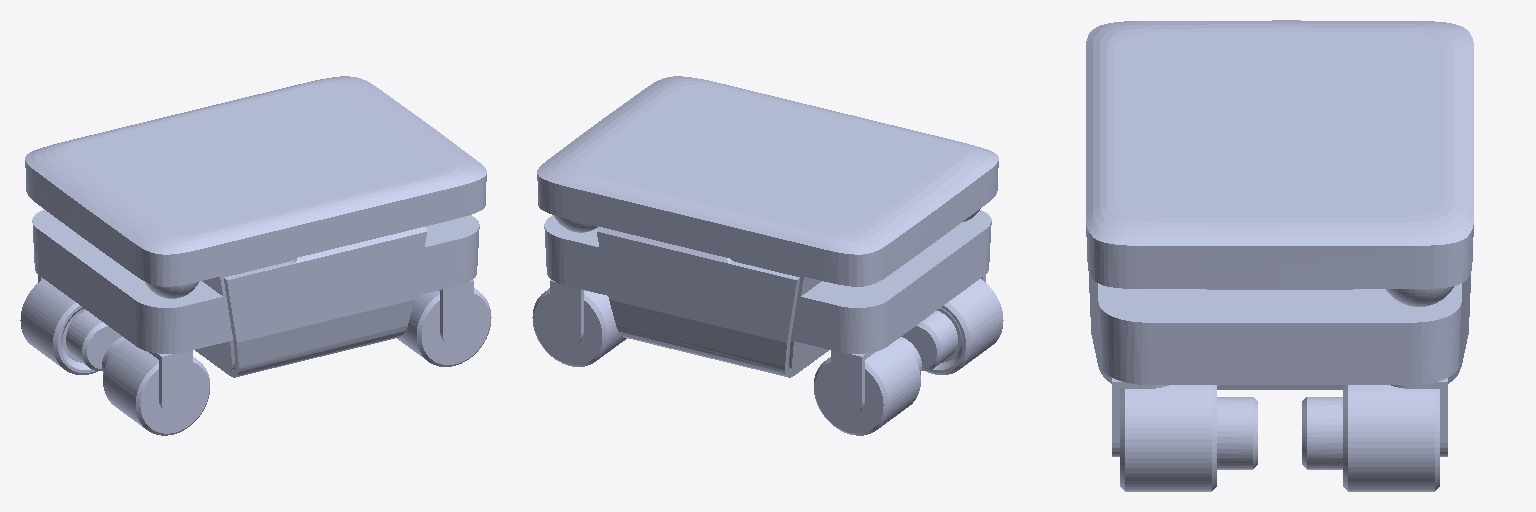
URDF robot description (compal_amr):
<?xml version="1.0" encoding="utf-8"?>
<!-- This URDF was automatically created by SolidWorks to URDF Exporter! Originally created by [author] ([email redacted]) 
     Commit Version: 1.6.0-4-g7f85cfe  Build Version: 1.6.7995.38578
     For more information, please see http://wiki.ros.org/sw_urdf_exporter -->
<robot
  name="compal_amr">
  <mujoco>
  <compiler
    meshdir="../meshes"
    balanceinertia="true"
    discardvisual="false" />
  </mujoco>
  <link
    name="base_link">
    <inertial>
      <origin
        xyz="2.59569390039498E-05 3.92560880102569E-07 0.0127582437299754"
        rpy="0 0 0" />
      <mass
        value="39.4194529711232" />
      <inertia
        ixx="0.538814147760533"
        ixy="0.000136634014522916"
        ixz="-0.000125882615713462"
        iyy="0.791445660994601"
        iyz="2.94499259389159E-07"
        izz="1.21586119090472" />
    </inertial>
    <visual>
      <origin
        xyz="0 0 0"
        rpy="0 0 0" />
      <geometry>
        <mesh
          filename="../meshes/base_link.STL" />
      </geometry>
      <material
        name="">
        <color
          rgba="0.792156862745098 0.819607843137255 0.933333333333333 1" />
      </material>
    </visual>
    <collision>
      <origin
        xyz="0 0 0"
        rpy="0 0 0" />
      <geometry>
        <mesh
          filename="../meshes/base_link_collision.STL" />
      </geometry>
    </collision>
  </link>
  <link
    name="F_lidar">
    <inertial>
      <origin
        xyz="1.06460726345681E-09 1.61064966919255E-10 -0.0156626192455283"
        rpy="0 0 0" />
      <mass
        value="0.150323115498736" />
      <inertia
        ixx="6.73031944392229E-05"
        ixy="-7.00363761993641E-10"
        ixz="3.30423735040374E-12"
        iyy="6.73104267215486E-05"
        iyz="-1.23666117909615E-11"
        izz="0.000103280581165292" />
    </inertial>
    <visual>
      <origin
        xyz="0 0 0"
        rpy="0 0 0" />
      <geometry>
        <mesh
          filename="../meshes/F_lidar.STL" />
      </geometry>
      <material
        name="">
        <color
          rgba="0.792156862745098 0.819607843137255 0.933333333333333 1" />
      </material>
    </visual>
  </link>
  <joint
    name="F_lidar_joint"
    type="fixed" dont_collapse="true">
    <origin
      xyz="0.217002044209402 0.1429047538305 0.05929798972915"
      rpy="0 0 0" />
    <parent
      link="base_link" />
    <child
      link="F_lidar" />
    <axis
      xyz="0 0 1" />
  </joint>
  <link
    name="R_lidar">
    <inertial>
      <origin
        xyz="-3.03887748298592E-11 -1.32434790911518E-09 -0.0156626099953528"
        rpy="0 0 0" />
      <mass
        value="0.150323106902144" />
      <inertia
        ixx="6.73032169407922E-05"
        ixy="-6.93279627324856E-10"
        ixz="8.53284394460163E-12"
        iyy="6.73104272544051E-05"
        iyz="-5.92736026357954E-12"
        izz="0.000103280574739445" />
    </inertial>
    <visual>
      <origin
        xyz="0 0 0"
        rpy="0 0 0" />
      <geometry>
        <mesh
          filename="../meshes/R_lidar.STL" />
      </geometry>
      <material
        name="">
        <color
          rgba="0.792156862745098 0.819607843137255 0.933333333333333 1" />
      </material>
    </visual>
  </link>
  <joint
    name="R_lidar_joint"
    type="fixed" dont_collapse="true">
    <origin
      xyz="-0.217002044209398 -0.1429047538305 0.0592979897291498"
      rpy="0 0 0" />
    <parent
      link="base_link" />
    <child
      link="R_lidar" />
    <axis
      xyz="0 0 1" />
  </joint>
  <link
    name="FL_Z">
    <inertial>
      <origin
        xyz="4.48461335206263E-07 0.0157407427765054 -0.0317579183639847"
        rpy="0 0 0" />
      <mass
        value="0.0627920067701351" />
      <inertia
        ixx="7.19676736234964E-05"
        ixy="-1.32605408807586E-10"
        ixz="5.39004939666946E-10"
        iyy="6.42322629301271E-05"
        iyz="1.93934184037754E-05"
        izz="3.08991830828198E-05" />
    </inertial>
    <visual>
      <origin
        xyz="0 0 0"
        rpy="0 0 0" />
      <geometry>
        <mesh
          filename="../meshes/FL_Z.STL" />
      </geometry>
      <material
        name="">
        <color
          rgba="0.792156862745098 0.819607843137255 0.933333333333333 1" />
      </material>
    </visual>
  </link>
  <joint
    name="FL_Z_joint"
    type="continuous">
    <origin
      xyz="0.225 0.14 -0.0507020102708502"
      rpy="0 0 0" />
    <parent
      link="base_link" />
    <child
      link="FL_Z" />
    <axis
      xyz="0 0 1" />
  </joint>
  <link
    name="FL_Y">
    <inertial>
      <origin
        xyz="3.20811257004117E-08 -0.0348592060116931 1.70991623082983E-08"
        rpy="0 0 0" />
      <mass
        value="1.28546928384308" />
      <inertia
        ixx="0.00189138298906044"
        ixy="-1.07059085352935E-09"
        ixz="9.9622799143609E-10"
        iyy="0.00209674422691202"
        iyz="7.36032312529509E-10"
        izz="0.00189150168131795" />
    </inertial>
    <visual>
      <origin
        xyz="0 0 0"
        rpy="0 0 0" />
      <geometry>
        <mesh
          filename="../meshes/FL_Y.STL" />
      </geometry>
      <material
        name="">
        <color
          rgba="0.792156862745098 0.819607843137255 0.933333333333333 1" />
      </material>
    </visual>
    <collision>
      <origin xyz="0 -0.025 0" rpy="1.5708 0 0"/> 
      <geometry>
        <cylinder radius="0.06" length="0.10"/>
      </geometry>
    </collision>
  </link>
  <joint
    name="FLY_joint"
    type="continuous">
    <origin
      xyz="0 0 -0.0750000000000018"
      rpy="0 0 0" />
    <parent
      link="FL_Z" />
    <child
      link="FL_Y" />
    <axis
      xyz="0 1 0" />
  </joint>
  <link
    name="FR_Z">
    <inertial>
      <origin
        xyz="-6.96960099827448E-07 -0.0157422599526739 -0.0317520050572874"
        rpy="0 0 0" />
      <mass
        value="0.0627867707185735" />
      <inertia
        ixx="7.19699012450483E-05"
        ixy="-2.64657203827441E-10"
        ixz="-6.71409418677542E-11"
        iyy="6.42367273968194E-05"
        iyz="-1.93935589207112E-05"
        izz="3.09012142504687E-05" />
    </inertial>
    <visual>
      <origin
        xyz="0 0 0"
        rpy="0 0 0" />
      <geometry>
        <mesh
          filename="../meshes/FR_Z.STL" />
      </geometry>
      <material
        name="">
        <color
          rgba="0.792156862745098 0.819607843137255 0.933333333333333 1" />
      </material>
    </visual>
  </link>
  <joint
    name="FR_Z_joint"
    type="continuous">
    <origin
      xyz="0.225 -0.14 -0.0507020102708502"
      rpy="0 0 0" />
    <parent
      link="base_link" />
    <child
      link="FR_Z" />
    <axis
      xyz="0 0 1" />
  </joint>
  <link
    name="FR_Y">
    <inertial>
      <origin
        xyz="-2.87916643859631E-08 0.0348592364978762 3.48750540113407E-08"
        rpy="0 0 0" />
      <mass
        value="1.28547068503575" />
      <inertia
        ixx="0.0018914124762162"
        ixy="-1.9846149441319E-09"
        ixz="1.1572785368612E-08"
        iyy="0.00209676579205242"
        iyz="9.98180899833962E-11"
        izz="0.0018914984353934" />
    </inertial>
    <visual>
      <origin
        xyz="0 0 0"
        rpy="0 0 0" />
      <geometry>
        <mesh
          filename="../meshes/FR_Y.STL" />
      </geometry>
      <material
        name="">
        <color
          rgba="0.792156862745098 0.819607843137255 0.933333333333333 1" />
      </material>
    </visual>
    <collision>
      <origin xyz="0 0.025 0" rpy="-1.5708 0 0"/> 
      <geometry>
        <cylinder radius="0.06" length="0.10"/>
      </geometry>
    </collision>
  </link>
  <joint
    name="FR_Y_joint"
    type="continuous">
    <origin
      xyz="0 0 -0.0750000000000018"
      rpy="0 0 0" />
    <parent
      link="FR_Z" />
    <child
      link="FR_Y" />
    <axis
      xyz="0 1 0" />
  </joint>
  <link
    name="RL_Z">
    <inertial>
      <origin
        xyz="2.41974958153923E-07 0.0157407427765055 -0.0317579183639849"
        rpy="0 0 0" />
      <mass
        value="0.0627920067701346" />
      <inertia
        ixx="7.19676736234961E-05"
        ixy="-2.49969833683187E-10"
        ixz="6.03640060760562E-11"
        iyy="6.42322629295145E-05"
        iyz="1.93934184037754E-05"
        izz="3.08991830822072E-05" />
    </inertial>
    <visual>
      <origin
        xyz="0 0 0"
        rpy="0 0 0" />
      <geometry>
        <mesh
          filename="../meshes/RL_Z.STL" />
      </geometry>
      <material
        name="">
        <color
          rgba="0.792156862745098 0.819607843137255 0.933333333333333 1" />
      </material>
    </visual>
  </link>
  <joint
    name="RL_Z_joint"
    type="continuous">
    <origin
      xyz="-0.225 0.14 -0.0507020102708502"
      rpy="0 0 0" />
    <parent
      link="base_link" />
    <child
      link="RL_Z" />
    <axis
      xyz="0 0 1" />
  </joint>
  <link
    name="RL_Y">
    <inertial>
      <origin
        xyz="9.83657522102277E-09 -0.0348592364978761 1.73671761971583E-08"
        rpy="0 0 0" />
      <mass
        value="1.28547068503575" />
      <inertia
        ixx="0.00189138964908384"
        ixy="-1.0675036447837E-09"
        ixz="-8.94176154483127E-09"
        iyy="0.00209674335640638"
        iyz="7.47272255478971E-10"
        izz="0.00189149882687974" />
    </inertial>
    <visual>
      <origin
        xyz="0 0 0"
        rpy="0 0 0" />
      <geometry>
        <mesh
          filename="../meshes/RL_Y.STL" />
      </geometry>
      <material
        name="">
        <color
          rgba="0.792156862745098 0.819607843137255 0.933333333333333 1" />
      </material>
    </visual>
    <collision>
      <origin xyz="0 -0.025 0" rpy="1.5708 0 0"/> 
      <geometry>
        <cylinder radius="0.06" length="0.10"/>
      </geometry>
    </collision>
  </link>
  <joint
    name="RL_Y_joint"
    type="continuous">
    <origin
      xyz="0 0 -0.0750000000000018"
      rpy="0 0 0" />
    <parent
      link="RL_Z" />
    <child
      link="RL_Y" />
    <axis
      xyz="0 1 0" />
  </joint>
  <link
    name="RR_Z">
    <inertial>
      <origin
        xyz="-9.03463696466655E-07 -0.0157422599526739 -0.031752005057287"
        rpy="0 0 0" />
      <mass
        value="0.0627867707185724" />
      <inertia
        ixx="7.19699012450475E-05"
        ixy="-1.47292779049963E-10"
        ixz="-5.45778010362958E-10"
        iyy="6.42367273972276E-05"
        iyz="-1.93935589207111E-05"
        izz="3.09012142508773E-05" />
    </inertial>
    <visual>
      <origin
        xyz="0 0 0"
        rpy="0 0 0" />
      <geometry>
        <mesh
          filename="../meshes/RR_Z.STL" />
      </geometry>
      <material
        name="">
        <color
          rgba="0.792156862745098 0.819607843137255 0.933333333333333 1" />
      </material>
    </visual>
  </link>
  <joint
    name="RR_Z_joint"
    type="continuous">
    <origin
      xyz="-0.225 -0.14 -0.0507020102708502"
      rpy="0 0 0" />
    <parent
      link="base_link" />
    <child
      link="RR_Z" />
    <axis
      xyz="0 0 1" />
  </joint>
  <link
    name="RR_Y">
    <inertial>
      <origin
        xyz="-5.10362358763228E-08 0.0348592060116931 3.46070589962721E-08"
        rpy="0 0 0" />
      <mass
        value="1.28546928384307" />
      <inertia
        ixx="0.00189140767258331"
        ixy="-1.98770085227501E-09"
        ixz="6.92502018290604E-09"
        iyy="0.00209676315362144"
        iyz="1.11056848565284E-10"
        izz="0.00189149592450449" />
    </inertial>
    <visual>
      <origin
        xyz="0 0 0"
        rpy="0 0 0" />
      <geometry>
        <mesh
          filename="../meshes/RR_Y.STL" />
      </geometry>
      <material
        name="">
        <color
          rgba="0.792156862745098 0.819607843137255 0.933333333333333 1" />
      </material>
    </visual>
    <collision>
      <origin xyz="0 0.025 0" rpy="-1.5708 0 0"/> 
      <geometry>
        <cylinder radius="0.06" length="0.10"/>
      </geometry>
    </collision>
  </link>
  <joint
    name="RR_Y_joint"
    type="continuous">
    <origin
      xyz="0 0 -0.0750000000000018"
      rpy="0 0 0" />
    <parent
      link="RR_Z" />
    <child
      link="RR_Y" />
    <axis
      xyz="0 1 0" />
  </joint>
</robot>

--- Facts derived from the render (not from the file) ---
The picture shows the robot from 3 angles, left to right: view 1: azimuth 30°, elevation 25°; view 2: azimuth 150°, elevation 25°; view 3: azimuth 270°, elevation 25°; orthographic projection.
Model compal_amr with 11 links and 10 joints (8 continuous, 2 fixed), rooted at base_link, posed every joint at zero.
Visible links, largest first — view 1: base_link, RL_Y, RR_Y, FR_Y, RR_Z, FR_Z; view 2: base_link, RR_Y, RL_Y, FL_Y, RL_Z, FL_Z; view 3: base_link, FL_Y, FR_Y, F_lidar, FL_Z, FR_Z.
Boxes of the visible links, x1,y1,x2,y2 form: base_link: (25, 76, 486, 377); RL_Y: (20, 279, 122, 374); RR_Y: (102, 337, 209, 435); FR_Y: (397, 288, 491, 366); RR_Z: (147, 350, 192, 415); FR_Z: (439, 280, 473, 346); base_link: (537, 76, 998, 377); RR_Y: (901, 279, 1003, 374); RL_Y: (814, 337, 921, 435); FL_Y: (532, 288, 626, 366); RL_Z: (831, 350, 876, 415); FL_Z: (550, 280, 584, 346); base_link: (1086, 20, 1473, 389); FL_Y: (1302, 385, 1439, 491); FR_Y: (1120, 385, 1257, 491); F_lidar: (1386, 286, 1453, 306); FL_Z: (1391, 378, 1447, 456); FR_Z: (1112, 378, 1168, 456).
Bounding box of the posed robot: 0.57 × 0.3993 × 0.305 m (x, y, z).
11 mesh visuals loaded from 11 distinct referenced files (11 binary STL).